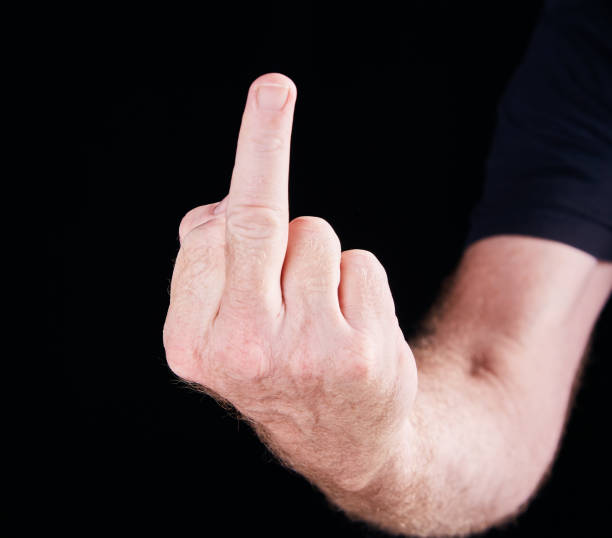insulting_gesture: (161, 68, 417, 490)
